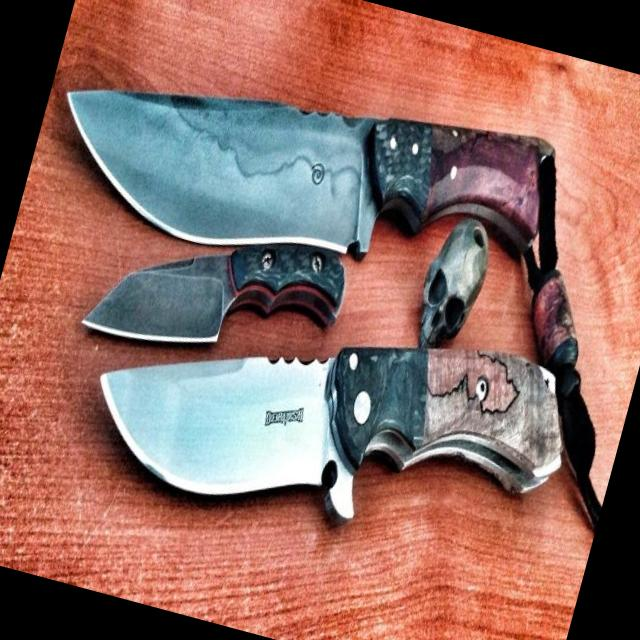Knife: (101, 347, 562, 522), (68, 90, 553, 255)
